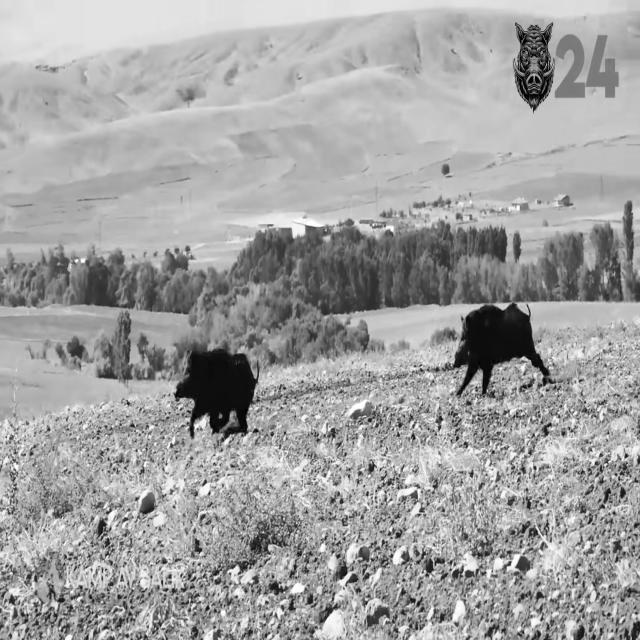boar: (454, 302, 548, 395), (174, 348, 258, 437), (514, 21, 556, 110)
